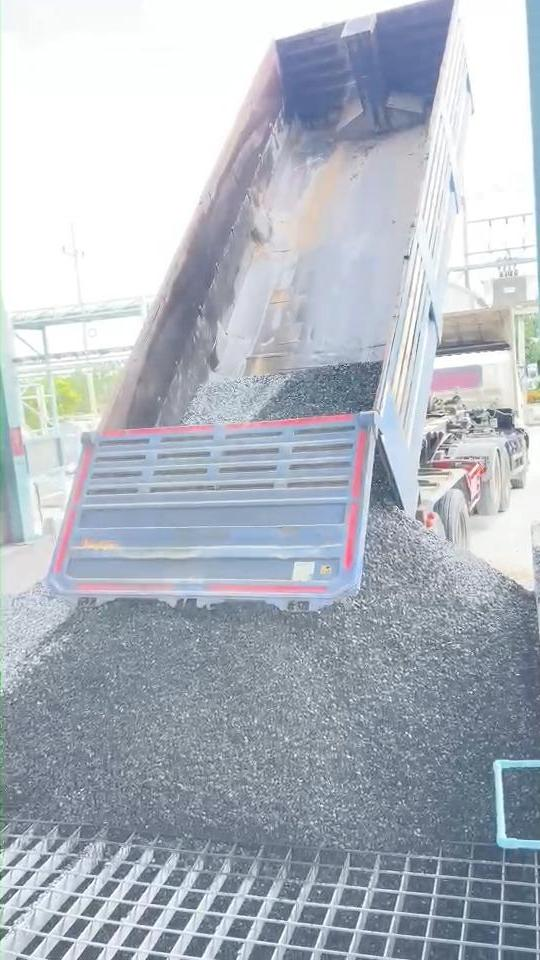gravel: (5, 490, 539, 847), (183, 363, 380, 422), (3, 583, 69, 690), (517, 789, 540, 835)
